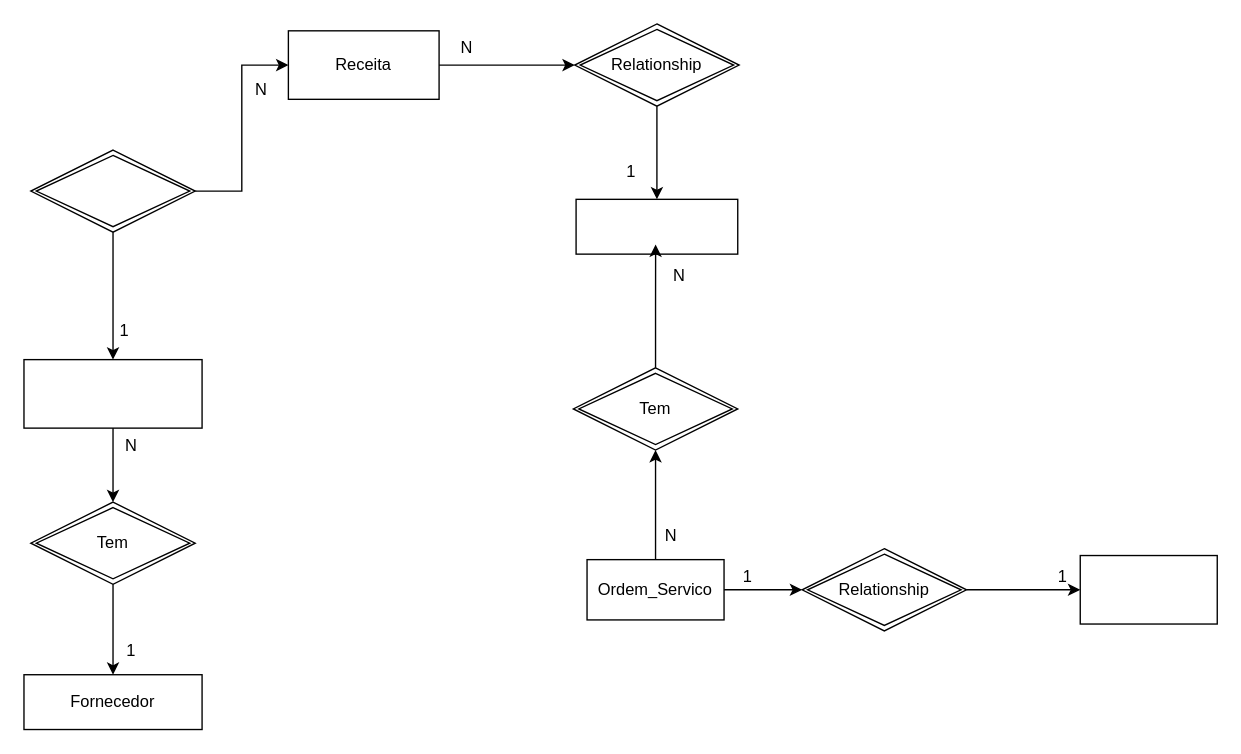
Some shapes in this 1241 by 754 pixel diagram are drawn without their labels. The shapes that lost their labels are listed below. From the top down, each one's centre as x and y in pixels, then its label:
At (112,190): "contém".
At (656,226): "Produto".
At (112,393): "Materia_Prima".
At (1148,589): "Cliente".
